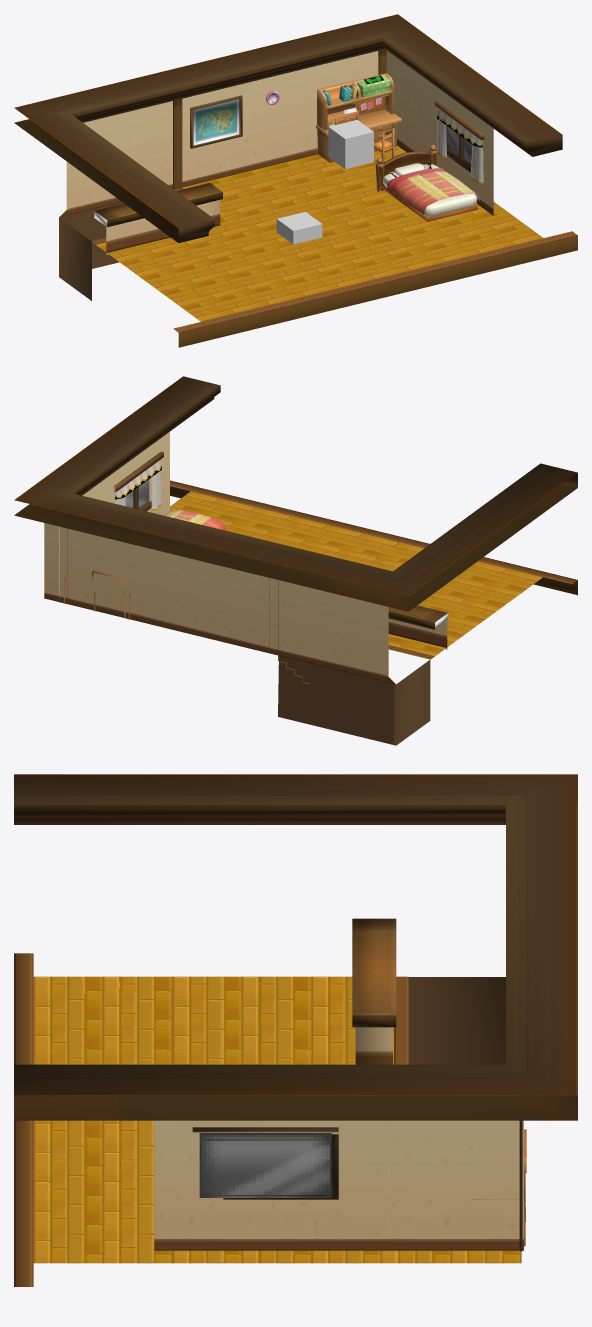
The model's file is house1.glb.
The picture shows the model from 3 angles, top to bottom: view 1: azimuth 30°, elevation 25°; view 2: azimuth 150°, elevation 25°; view 3: azimuth 270°, elevation 25°; orthographic projection. The views are drawn at different scales.
Parts seen in each view (by area): view 1: Rival_Room_interior, Cube; view 2: Rival_Room_interior; view 3: Rival_Room_interior.
Part boxes in pixels (bbox=[...]): Rival_Room_interior: bbox=[14, 14, 577, 347]; Cube: bbox=[328, 119, 373, 169]; Rival_Room_interior: bbox=[14, 376, 577, 745]; Rival_Room_interior: bbox=[14, 774, 577, 1286].
Size of the model in its own units: 27.56 by 10.83 by 19.69.
17 materials, 15 textured.
